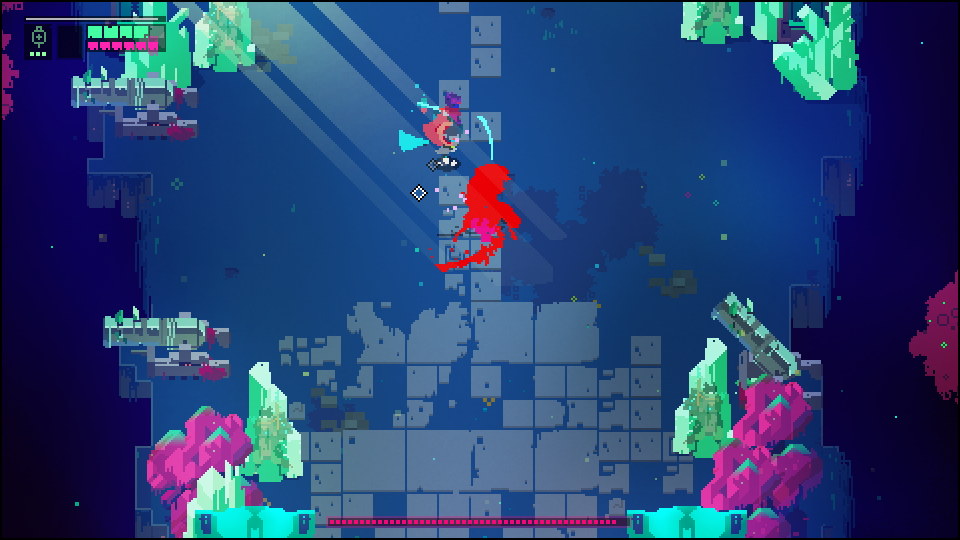hanged_man: (450, 159, 521, 277)
player: (394, 89, 484, 166)
